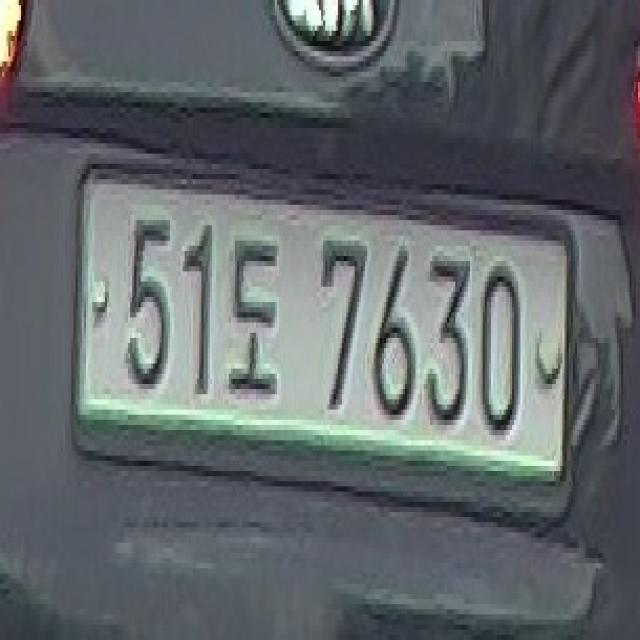0: (478, 234, 522, 453)
1: (178, 198, 218, 408)
3: (424, 232, 474, 434)
5: (128, 198, 172, 406)
6: (373, 224, 418, 436)
7: (308, 226, 369, 428)
do: (227, 235, 284, 418)
license_plate: (54, 138, 588, 523)
